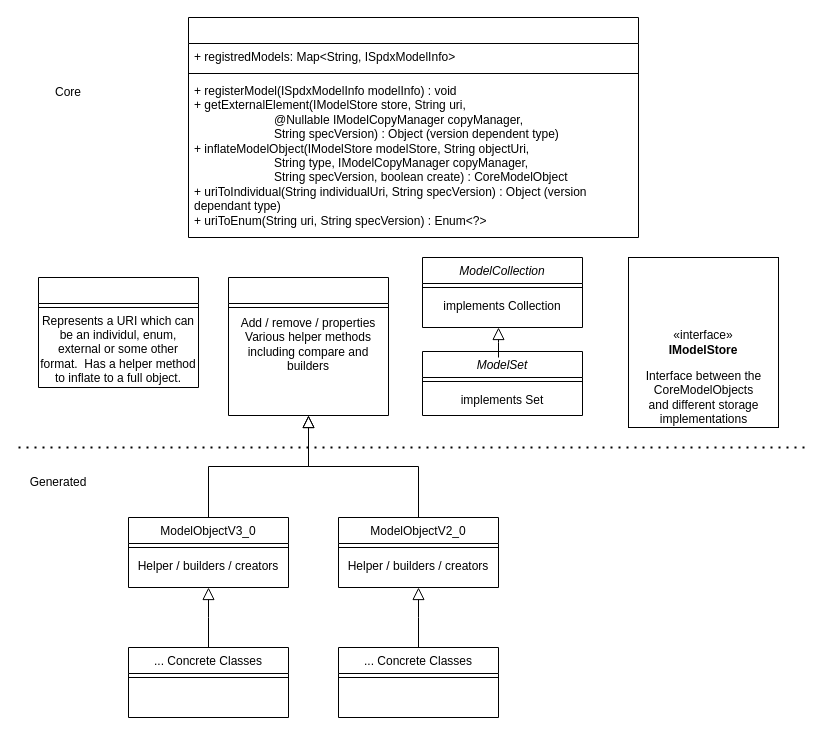
This 827x735 diagram has some shape labels left out. Each missing label, with the box of its shape:
CoreModelObject: (228, 276, 388, 416)
ModelRegistry: (188, 16, 638, 238)
SimpleUriValue: (38, 276, 198, 388)
